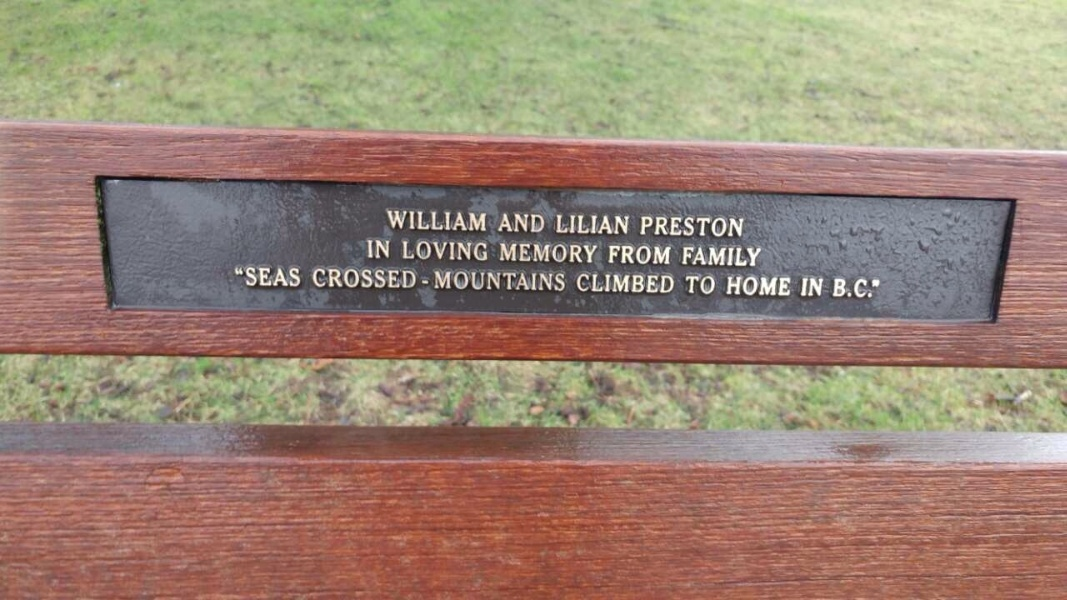text: (689, 244, 704, 270), (705, 244, 720, 270), (721, 244, 736, 270), (737, 244, 752, 270), (641, 216, 656, 241), (657, 216, 672, 241), (673, 216, 688, 241), (689, 216, 704, 241), (705, 216, 720, 241), (721, 216, 736, 241), (321, 266, 336, 291), (337, 266, 352, 291), (353, 266, 368, 291), (369, 266, 384, 291), (385, 266, 400, 291), (401, 266, 416, 291), (289, 266, 305, 289), (385, 209, 400, 233), (401, 209, 416, 233), (417, 209, 432, 233), (433, 209, 448, 233), (449, 209, 464, 233), (465, 209, 480, 233), (369, 239, 384, 263), (609, 243, 624, 267), (625, 243, 640, 267), (641, 243, 656, 267), (657, 243, 672, 267), (689, 273, 704, 297), (737, 274, 752, 298), (753, 274, 768, 298), (769, 274, 784, 298), (801, 275, 816, 299), (833, 276, 848, 300), (849, 276, 864, 300), (865, 276, 880, 300), (497, 211, 512, 234), (513, 211, 528, 234), (529, 211, 544, 234), (561, 213, 576, 236), (577, 213, 592, 236), (593, 213, 608, 236), (609, 213, 624, 236), (401, 240, 416, 263), (417, 240, 432, 263), (433, 240, 448, 263), (449, 240, 464, 263), (465, 240, 480, 263), (241, 266, 256, 289), (257, 266, 272, 289), (273, 266, 288, 289), (577, 272, 592, 295), (593, 272, 608, 295), (609, 272, 624, 295), (625, 272, 640, 295), (641, 272, 656, 295), (657, 272, 672, 295), (513, 243, 528, 265), (529, 243, 544, 265), (545, 243, 560, 265), (561, 243, 576, 265), (577, 243, 592, 265), (449, 270, 464, 292), (465, 270, 480, 292), (481, 270, 496, 292), (497, 270, 512, 292), (513, 270, 528, 292), (529, 270, 544, 292), (545, 270, 560, 292), (705, 273, 718, 297), (498, 243, 512, 265), (434, 270, 448, 292), (725, 274, 736, 298), (753, 244, 763, 270), (737, 216, 746, 241), (311, 266, 320, 291), (817, 275, 826, 299), (481, 240, 490, 263), (385, 239, 393, 263), (785, 274, 793, 298), (593, 243, 601, 265), (481, 209, 488, 233), (625, 213, 632, 236), (682, 244, 688, 270), (419, 276, 432, 288), (561, 270, 568, 292), (234, 266, 240, 289), (364, 239, 368, 263), (556, 213, 560, 236), (673, 272, 677, 295), (685, 273, 688, 297), (417, 266, 419, 291), (798, 275, 800, 299), (545, 211, 547, 234), (639, 216, 640, 241), (607, 243, 608, 267), (881, 276, 882, 300)
